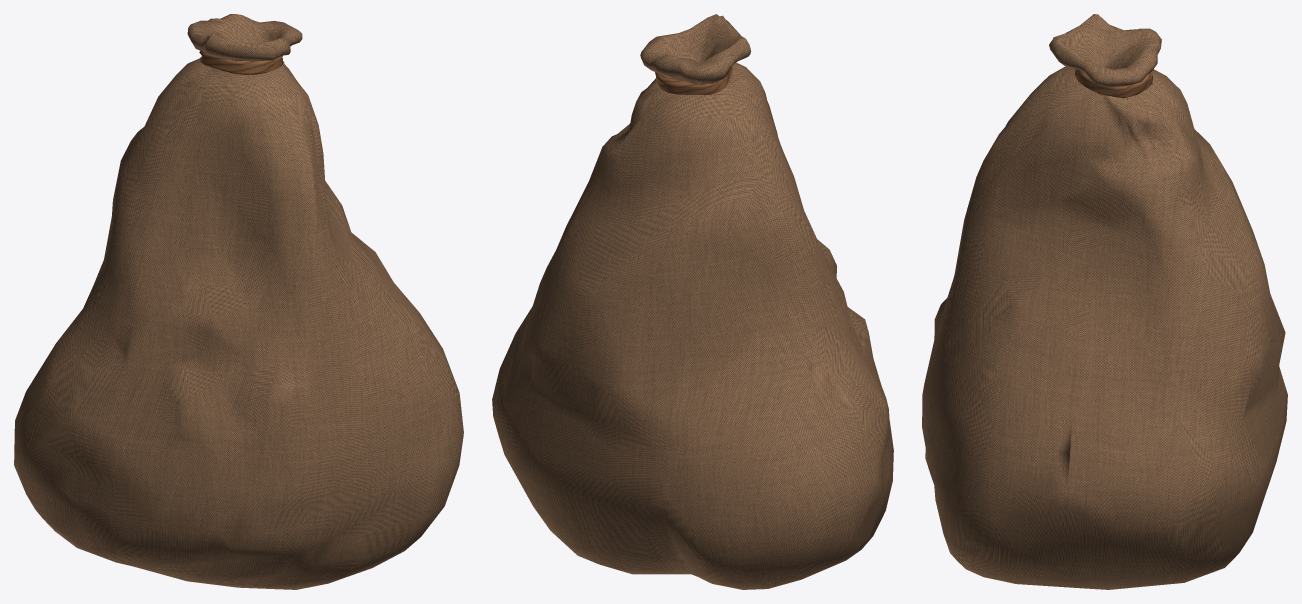
File: Group Proj - Small Sack.fbx
3 renders of one model, left to right at view 1: azimuth 30°, elevation 25°; view 2: azimuth 150°, elevation 25°; view 3: azimuth 270°, elevation 25°, orthographic. The views are drawn at different scales.
Visible parts, largest first — view 1: Low Poly; view 2: Low Poly; view 3: Low Poly.
Part boxes in pixels (x1,y1,x2,y2): Low Poly: (14, 14, 463, 589); Low Poly: (492, 14, 893, 589); Low Poly: (922, 14, 1287, 589).
Bounding box in the file's own units: 26.81 × 34.61 × 22.22.
2 materials, 2 textured.
